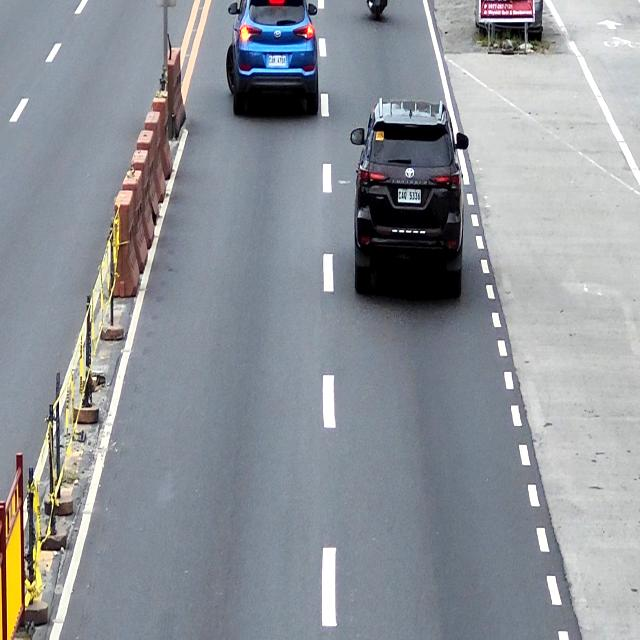Car: (351, 97, 469, 302), (225, 0, 319, 118)
License-Plate: (397, 189, 421, 203), (268, 56, 286, 66)
